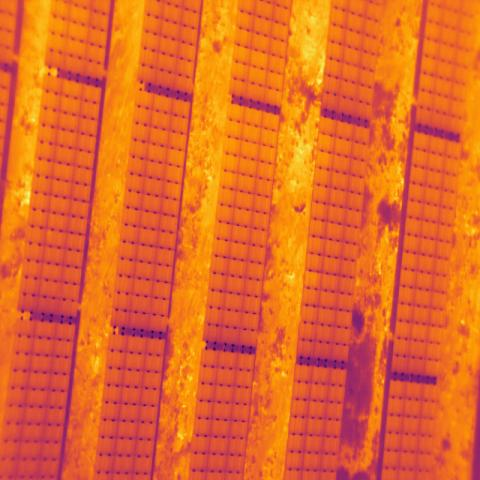fault: (303, 270, 322, 290)
